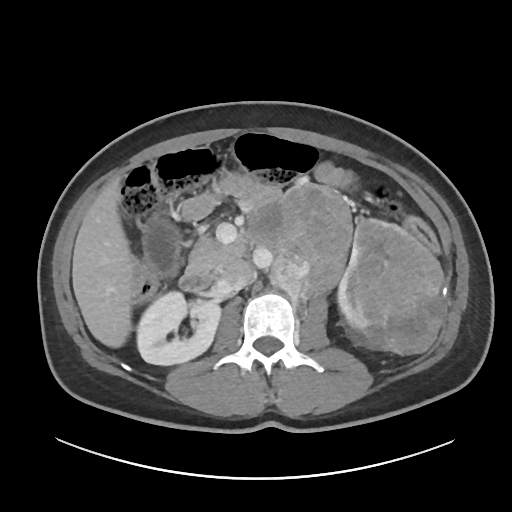Lesion: (349, 215, 449, 324)
